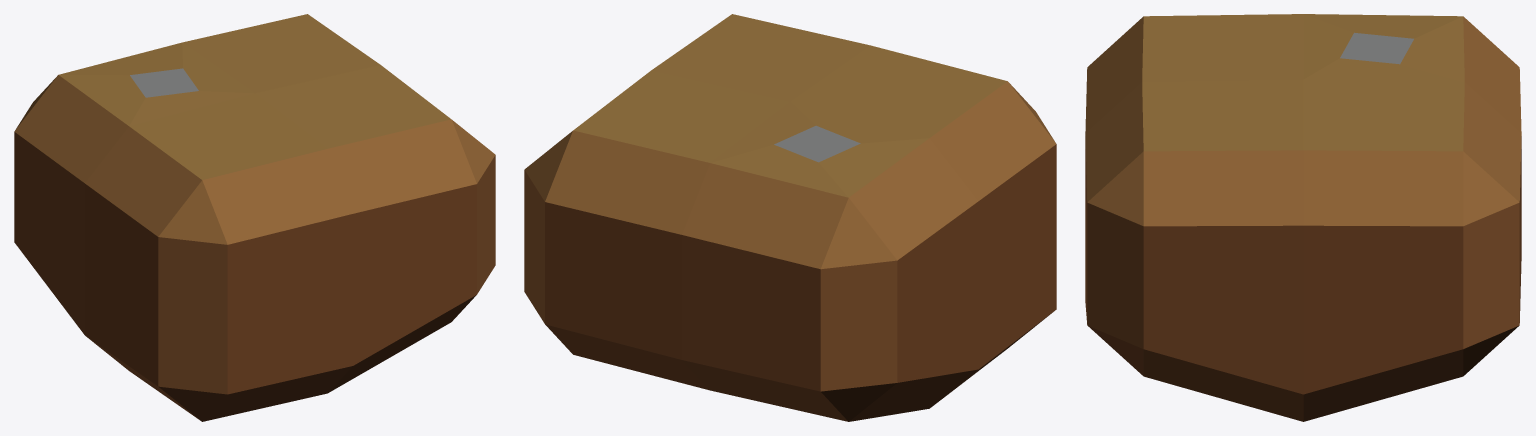
The model's file is m_kub_dirt_floorBrickMini.FBX.
3 views of the same model, side by side, from view 1: azimuth 30°, elevation 25°; view 2: azimuth 150°, elevation 25°; view 3: azimuth 270°, elevation 25° (orthographic). The views are drawn at different scales.
Visible parts, largest first — view 1: m_kub_dirt_floorBrickMini; view 2: m_kub_dirt_floorBrickMini; view 3: m_kub_dirt_floorBrickMini.
Boxes of the visible parts, box(x1,y1,x2,y2) form: m_kub_dirt_floorBrickMini: box(14, 14, 495, 421); m_kub_dirt_floorBrickMini: box(524, 14, 1056, 421); m_kub_dirt_floorBrickMini: box(1085, 14, 1521, 421).
Size of the model in its own units: 1.18 by 0.8221 by 1.18.
